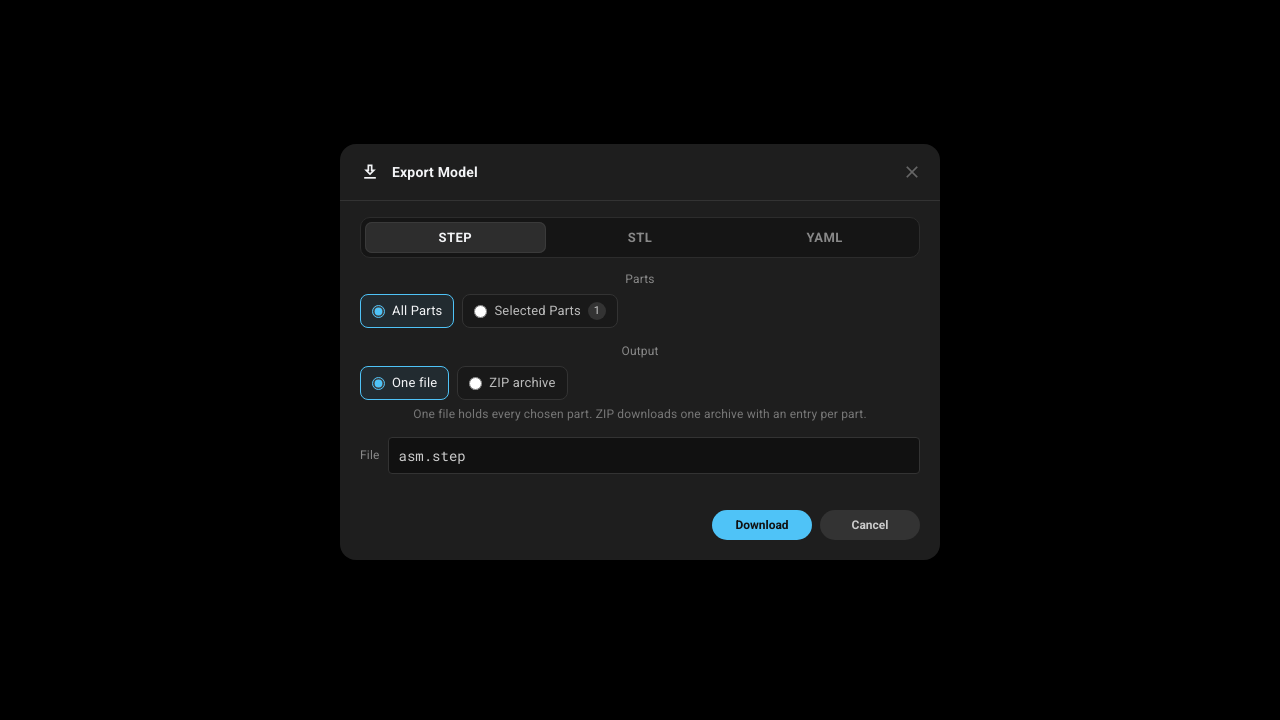
Test: ExportDialog parts selection › hides every part and bundle option for YAML
The width and height of the screenshot is (1280, 720).
What coordinates should you click on to do the following:
click the tab labelled "YAML"
I would click on:
 (825, 238)
Its box is [734, 222, 915, 253].
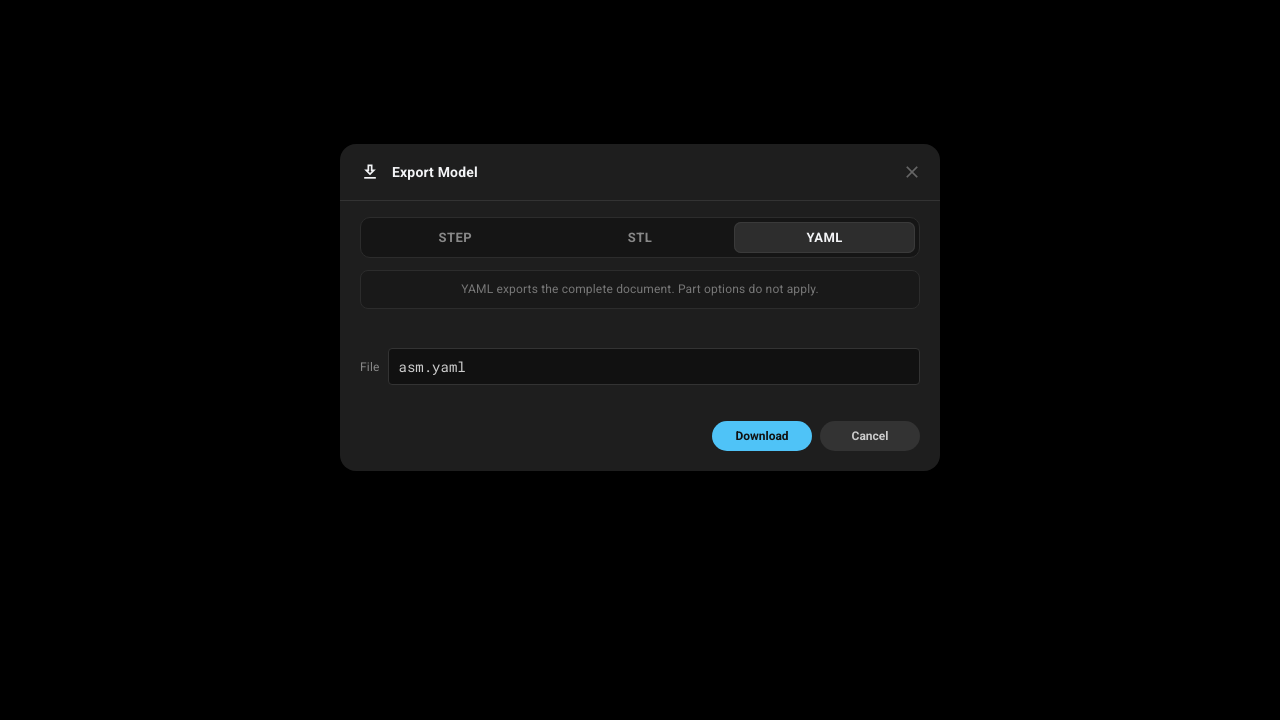
Expected: the text "All Parts" is gone
Expected: the text "Selected Parts" is gone
Expected: the text labelled "ZIP archive" is gone
